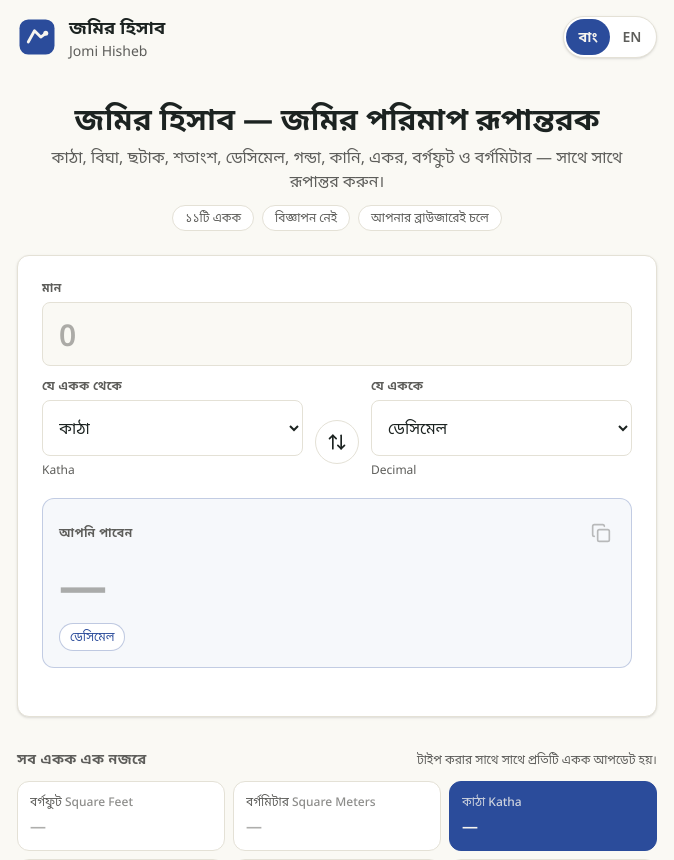
it: App integration › quick chip sets units and preserves the typed value
Type "7" into the field labelled "মান".
click(337, 334); type("7")  # box 42,302 -> 632,366
(page scrolled)
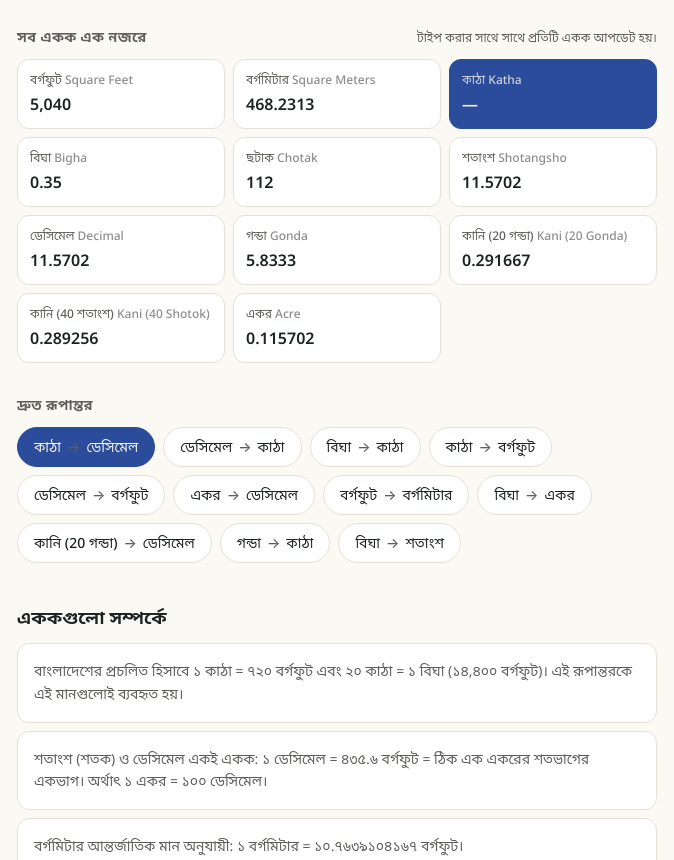
Click the button "বিঘা → কাঠা".
click(365, 447)  # box 310,427 -> 420,467
(page scrolled)
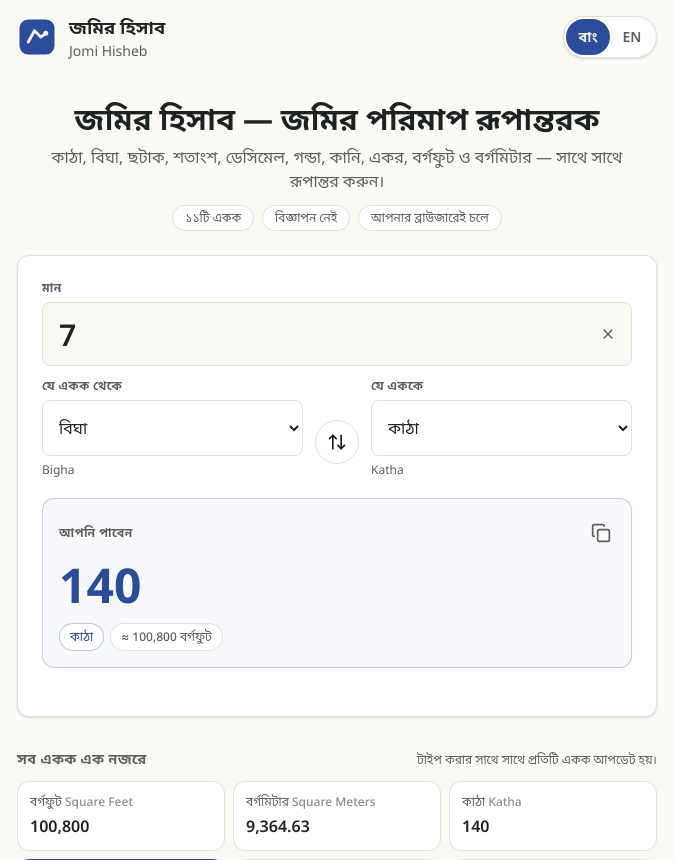
Expected: the dropdown labelled "যে একক থেকে" shows "বিঘা", 42,400 -> 303,456
Expected: the dropdown labelled "যে এককে" shows "কাঠা", 371,400 -> 632,456
